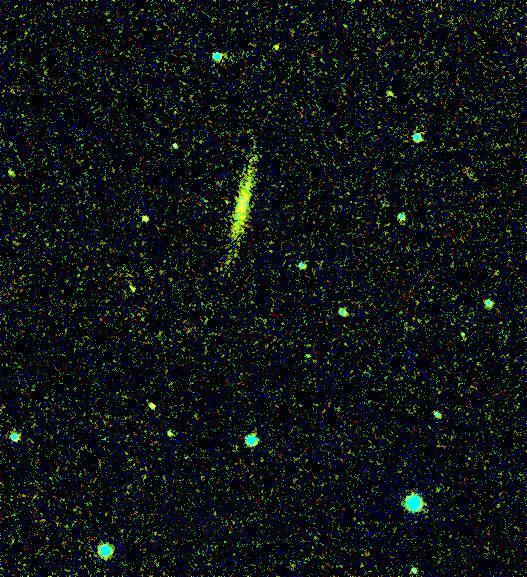star: (375, 79, 405, 109)
